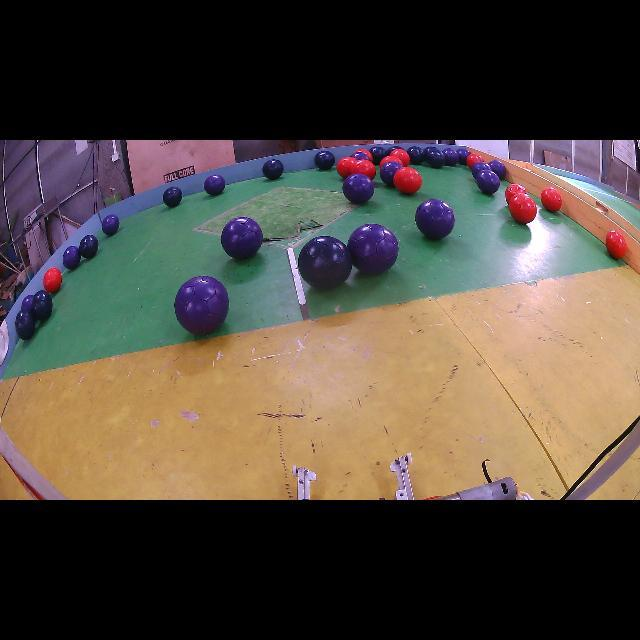B: (298, 236, 352, 289), (15, 310, 36, 340), (31, 290, 52, 320), (79, 235, 99, 259), (262, 159, 284, 180), (162, 186, 182, 208), (44, 268, 62, 292), (314, 151, 335, 170), (370, 146, 388, 164), (408, 146, 425, 165), (428, 151, 445, 169), (424, 146, 438, 158)
P: (175, 276, 229, 334), (348, 224, 399, 274), (221, 216, 262, 259), (415, 199, 455, 239), (471, 160, 506, 194), (342, 174, 374, 204), (379, 161, 402, 186), (62, 246, 81, 269), (204, 175, 225, 195), (101, 214, 120, 235), (370, 146, 388, 164), (408, 146, 425, 165), (442, 149, 459, 166), (456, 149, 470, 165), (354, 149, 372, 161), (21, 295, 34, 311)
R: (506, 184, 538, 224), (336, 156, 376, 180), (394, 166, 422, 194), (605, 230, 626, 259), (540, 188, 562, 212), (44, 268, 62, 292), (390, 149, 410, 166), (466, 154, 484, 168)
